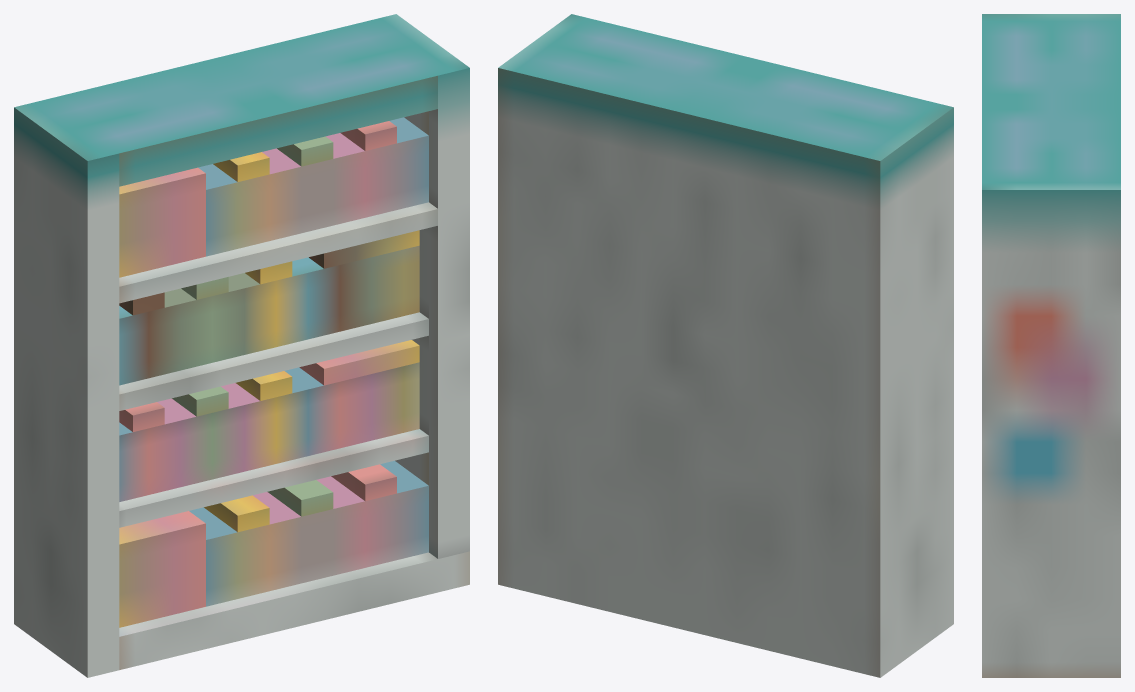
File: BookshelfMini_Kid_00.obj
The picture shows the model from 3 angles, left to right: view 1: azimuth 30°, elevation 25°; view 2: azimuth 150°, elevation 25°; view 3: azimuth 270°, elevation 25°; orthographic projection. The views are drawn at different scales.
Visible parts, largest first — view 1: BookshelfMini_Kid_00; view 2: BookshelfMini_Kid_00; view 3: BookshelfMini_Kid_00.
Boxes of the visible parts, x1,y1,x2,y2 form: BookshelfMini_Kid_00: [14, 14, 469, 677]; BookshelfMini_Kid_00: [498, 14, 953, 677]; BookshelfMini_Kid_00: [982, 14, 1120, 677].
Bounding box in the file's own units: 1.2 × 1.55 × 0.4.
